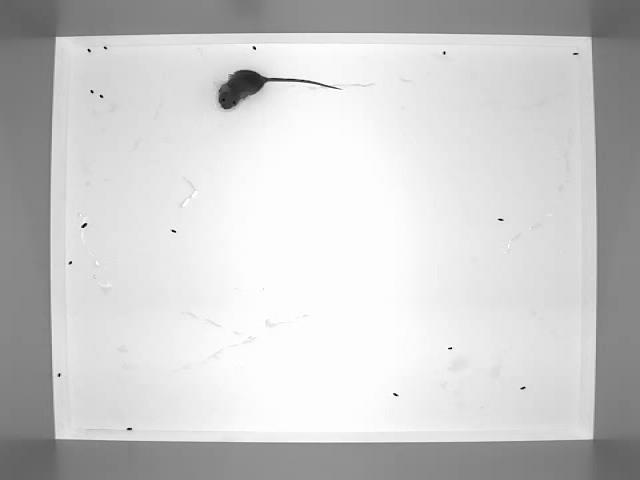Tikus: (211, 64, 343, 114)
